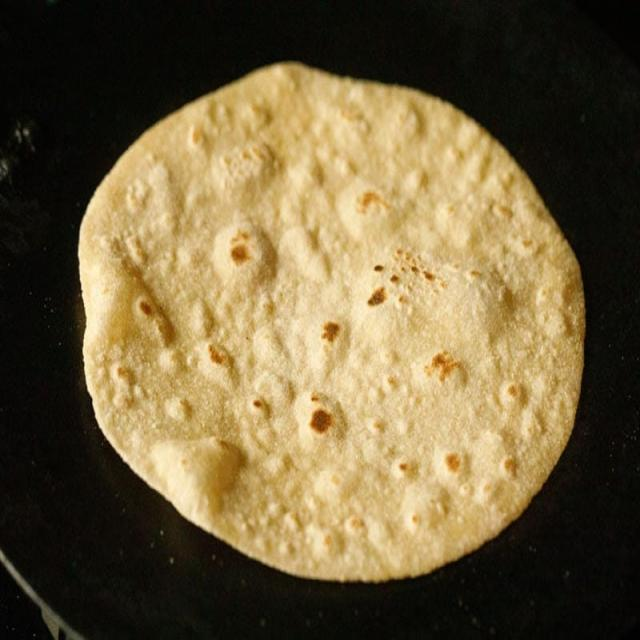ROTI: (81, 64, 578, 572)
